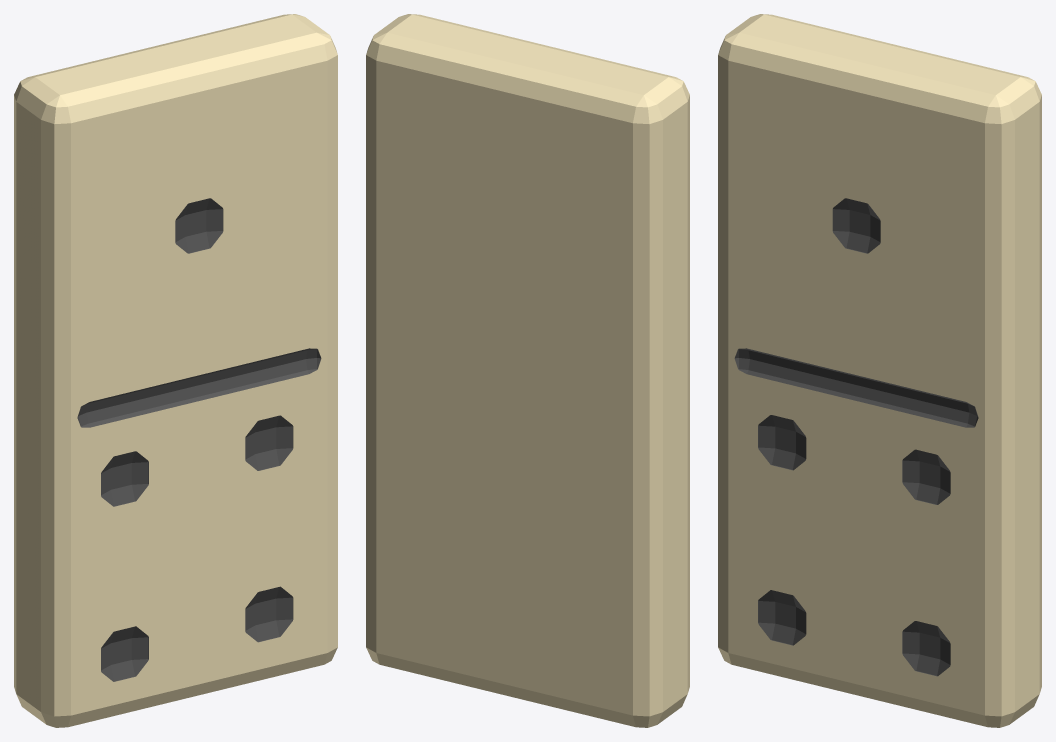
Rendered from dominoes 1x4.fbx.
The picture shows the model from 3 angles, left to right: view 1: azimuth 30°, elevation 25°; view 2: azimuth 150°, elevation 25°; view 3: azimuth 330°, elevation 25°; orthographic projection.
Parts seen in each view (by area): view 1: Boole_6; view 2: Boole_6; view 3: Boole_6.
Part boxes in pixels (<box>): Boole_6: <box>14,14,337,727</box>; Boole_6: <box>366,14,689,727</box>; Boole_6: <box>718,14,1041,727</box>.
Bounding box in the file's own units: 200 × 410 × 55.02.
